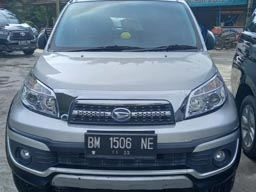plat: (86, 134, 155, 149)
